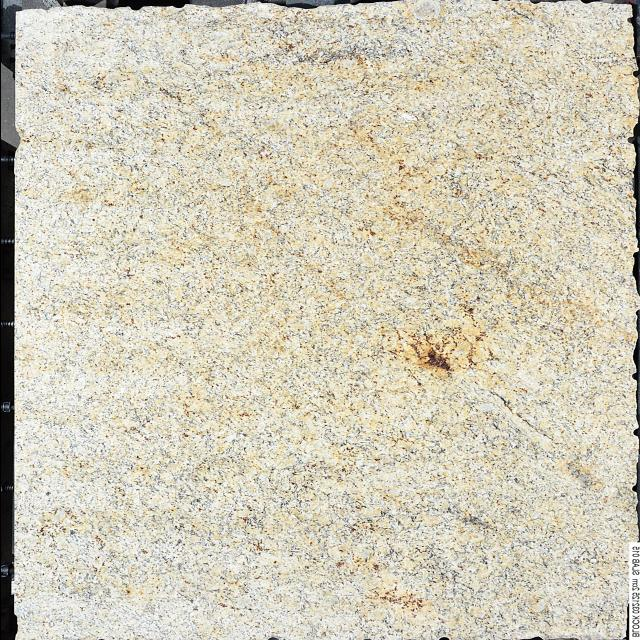chapa: (12, 0, 636, 640)
